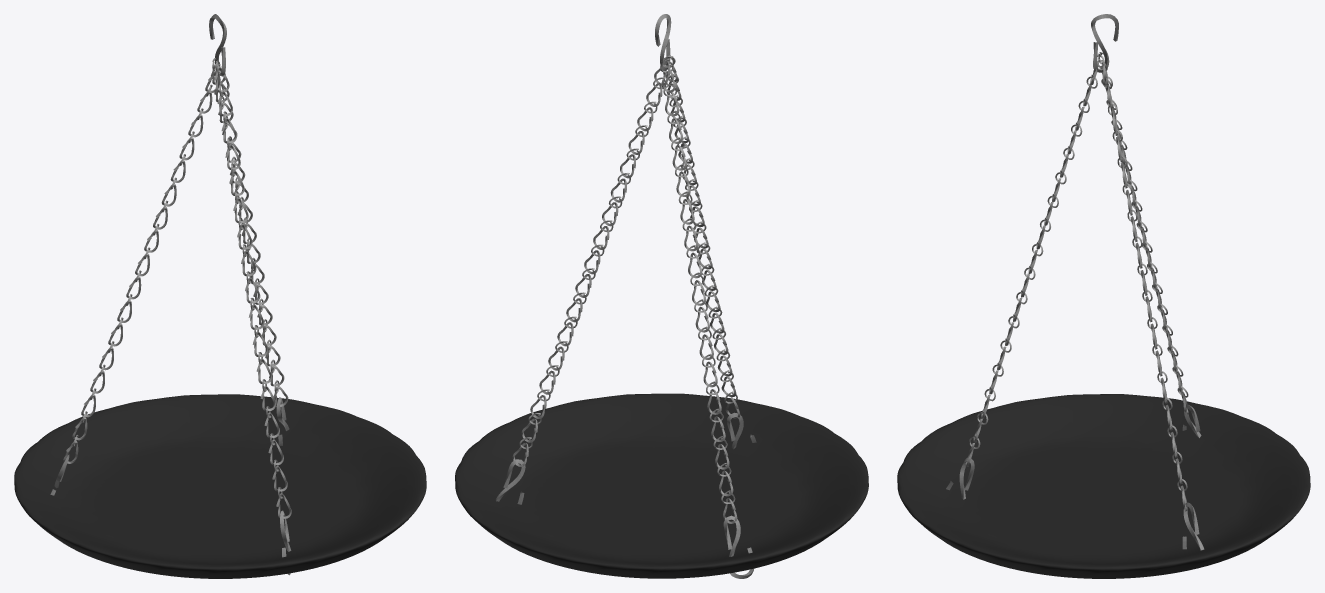
Rendered from plate_left.glb.
3 renders of one model, left to right at view 1: azimuth 30°, elevation 25°; view 2: azimuth 150°, elevation 25°; view 3: azimuth 270°, elevation 25°, orthographic.
Visible parts, largest first — view 1: defaultMaterial.213; view 2: defaultMaterial.213; view 3: defaultMaterial.213, defaultMaterial.176.
Boxes of the visible parts, bbox=[...] form: defaultMaterial.213: bbox=[14, 394, 426, 578]; defaultMaterial.213: bbox=[455, 393, 868, 578]; defaultMaterial.213: bbox=[897, 394, 1310, 578]; defaultMaterial.176: bbox=[1091, 14, 1118, 72].
Bounding box in the file's own units: 0.6123 × 0.8201 × 0.6123.
Materials: 4 (2 with a texture image).
